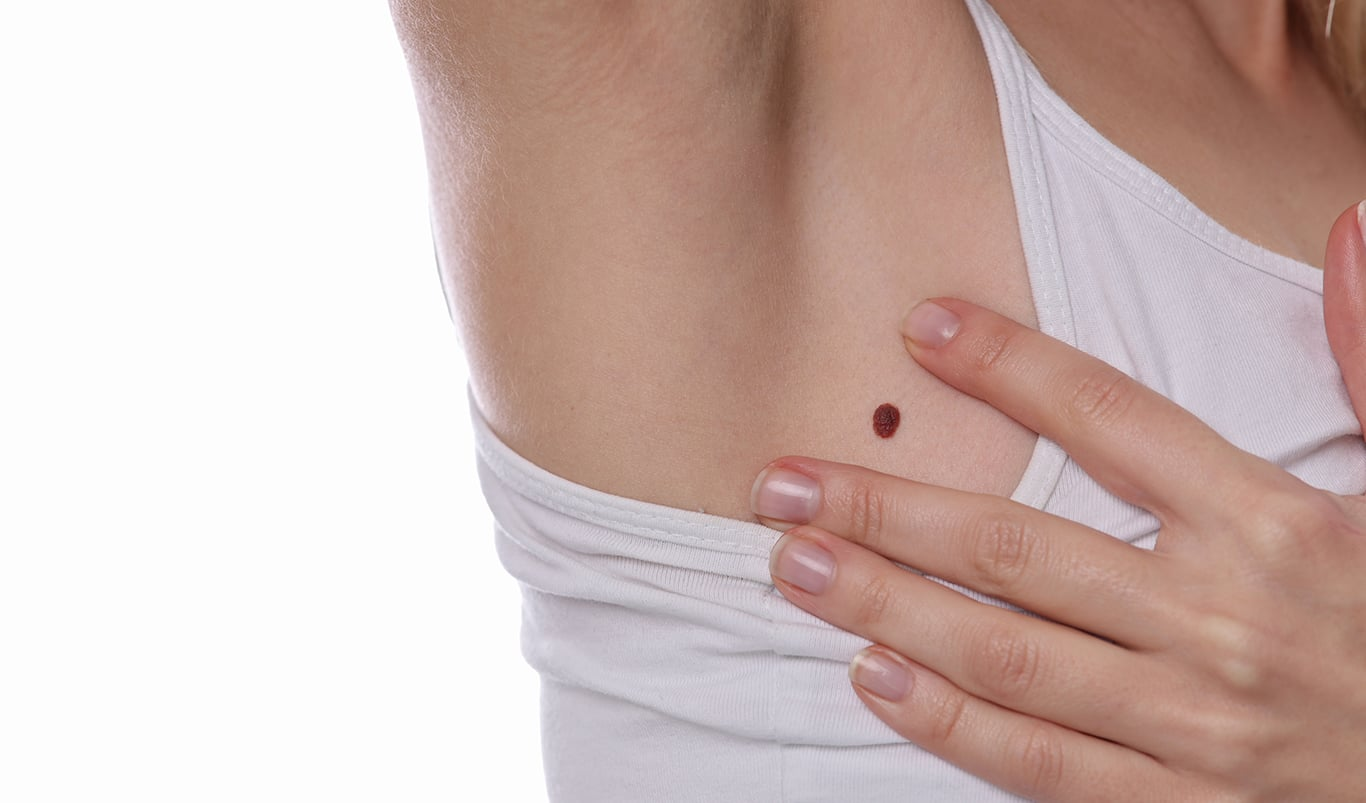mole: (860, 392, 926, 446)
